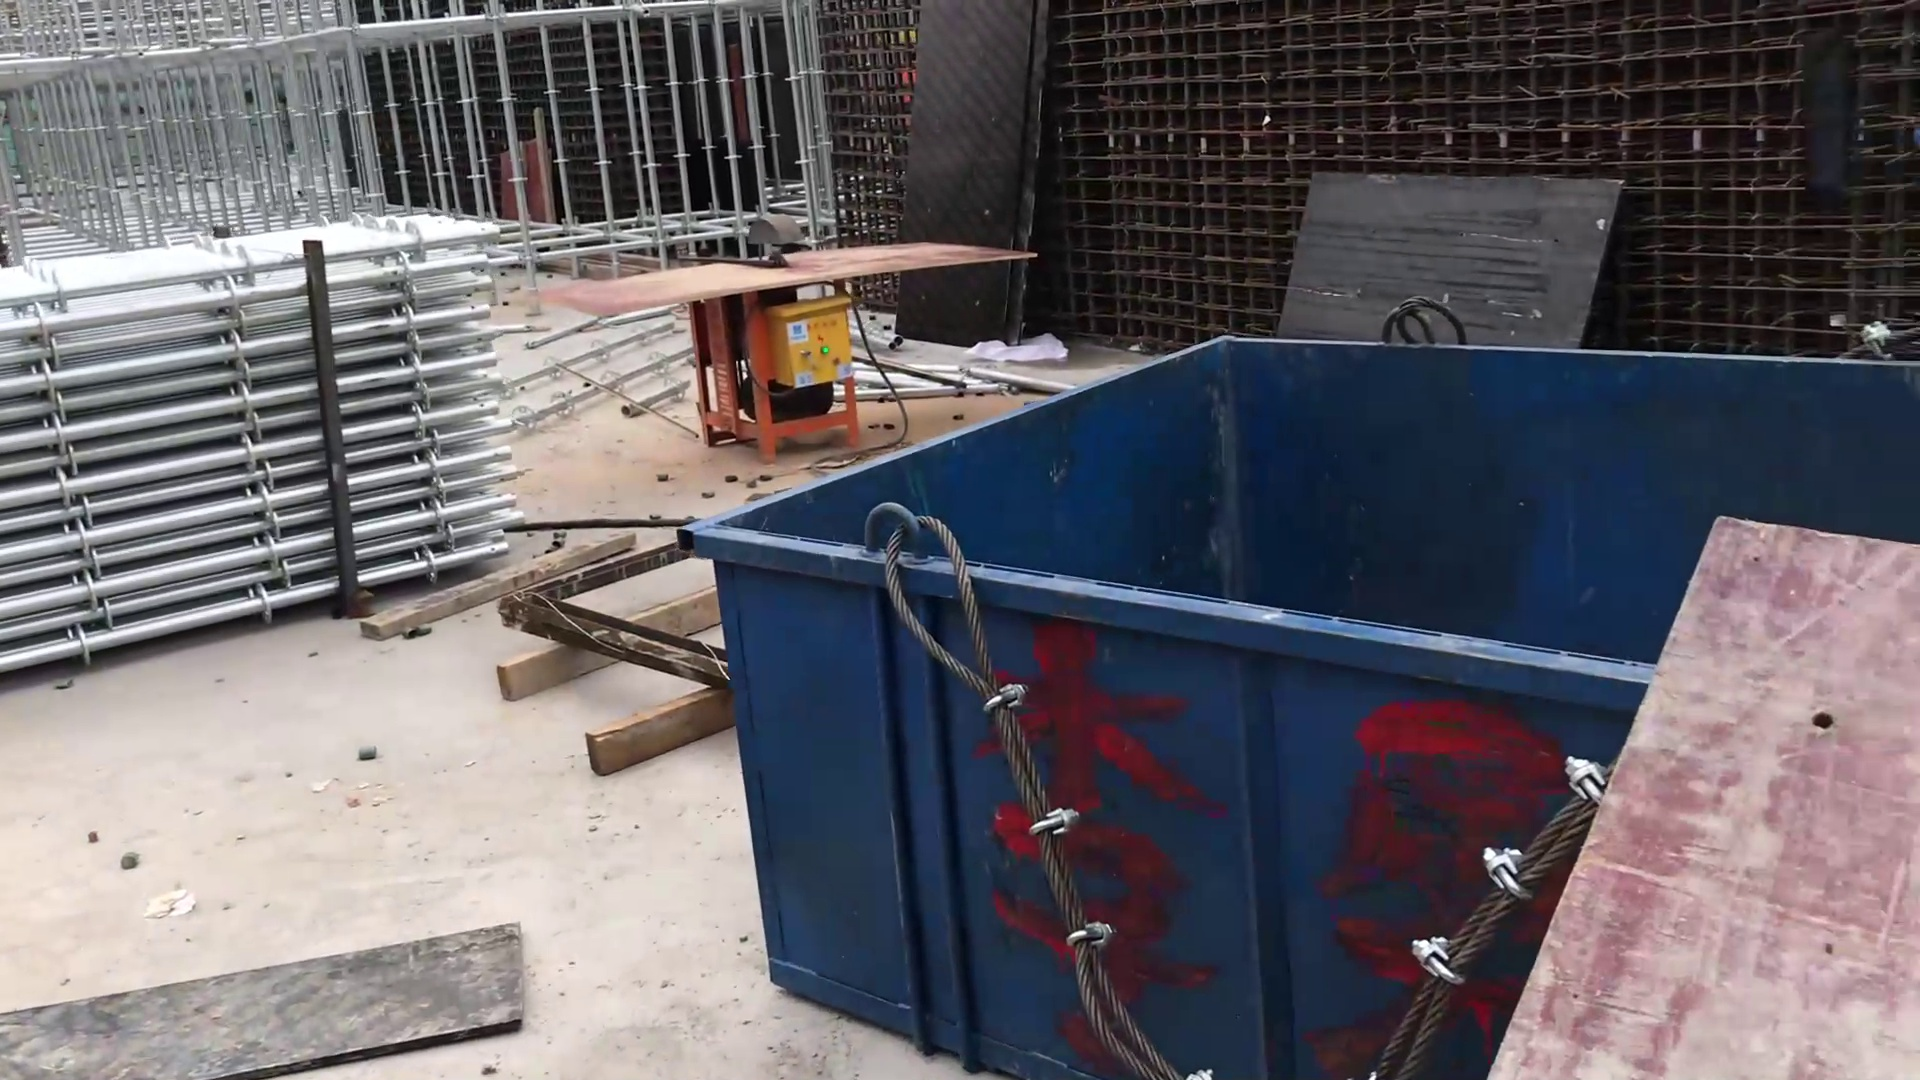cutter: (541, 211, 1052, 456)
ebox: (765, 287, 855, 398)
hopper: (667, 314, 1920, 1064)
scaffold: (1, 215, 529, 709)
